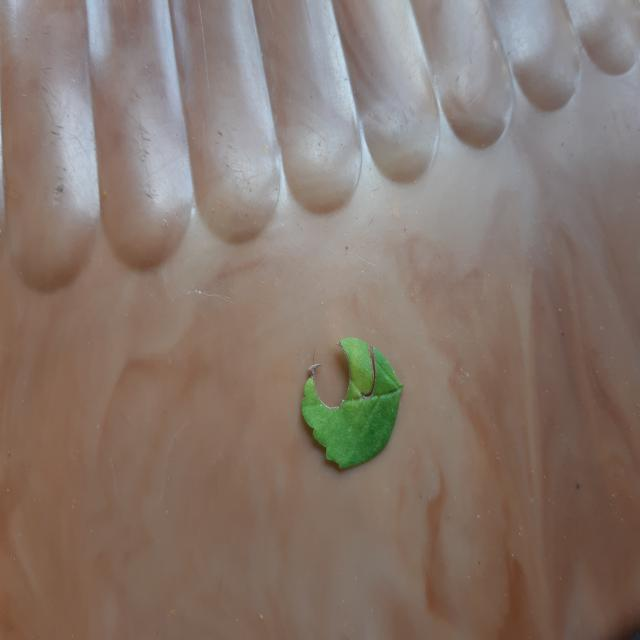defectedtecoma: (302, 338, 379, 467)
tecoma: (301, 338, 402, 469)
